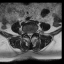CCS_normal: (29, 31, 31, 39)
LFS_severe_stenosis: (32, 30, 35, 34)
LLS_stenosis: (31, 31, 32, 37)
RFS_severe_stenosis: (25, 31, 27, 35)
RLS_stenosis: (27, 31, 29, 36)
